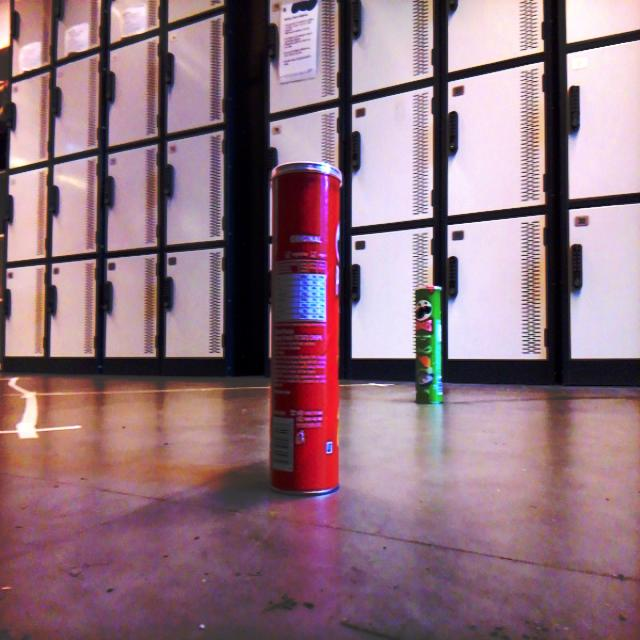greenpringles: (401, 272, 458, 412)
redpringles: (246, 144, 368, 517)
